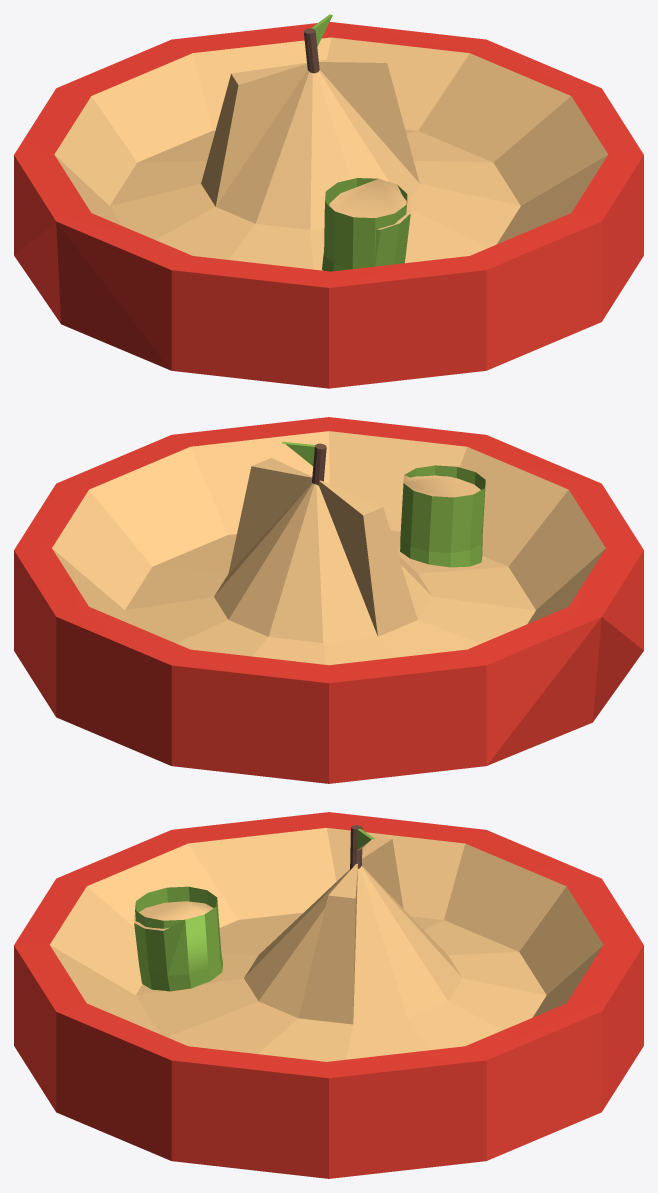
The model's file is Sandbox.glb.
3 renders of one model, top to bottom at view 1: azimuth 30°, elevation 25°; view 2: azimuth 150°, elevation 25°; view 3: azimuth 270°, elevation 25°, orthographic.
Parts seen in each view (by area): view 1: group223979644, group1101206371, group1424928973; view 2: group223979644, group1101206371, group1424928973; view 3: group223979644, group1101206371, group1424928973.
Part boxes in pixels (left/top/right/bottom): group223979644: left=14, top=22, right=643, bottom=388; group1101206371: left=322, top=178, right=410, bottom=271; group1424928973: left=304, top=14, right=332, bottom=73; group223979644: left=14, top=417, right=643, bottom=783; group1101206371: left=400, top=465, right=485, bottom=567; group1424928973: left=282, top=441, right=326, bottom=485; group223979644: left=14, top=812, right=643, bottom=1178; group1101206371: left=134, top=886, right=222, bottom=991; group1424928973: left=350, top=825, right=374, bottom=869.
Size of the model in its own units: 0.5219 by 0.2048 by 0.5219.
